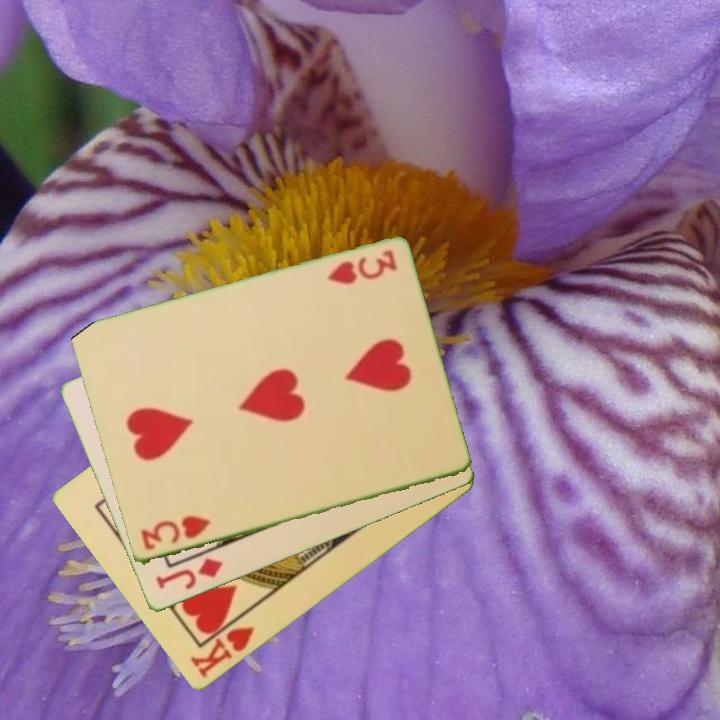3h: (137, 512, 214, 554), (323, 247, 400, 288)
Jd: (152, 555, 227, 593)
Kh: (186, 609, 258, 682)
